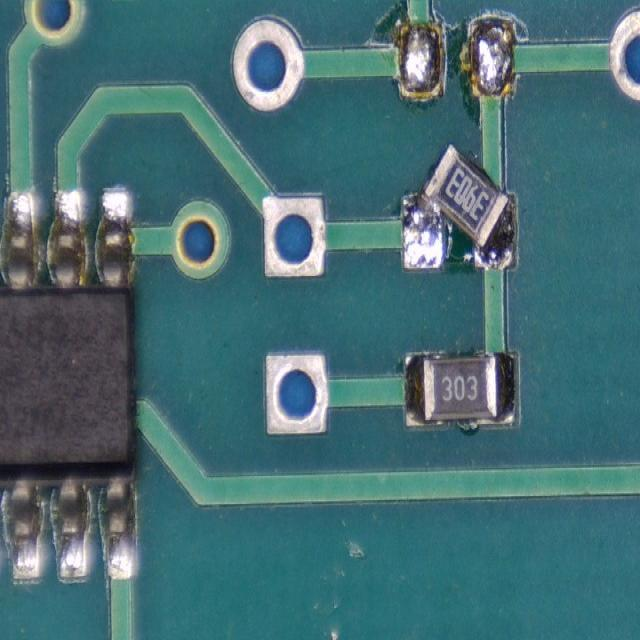Incorrect_installation: (402, 141, 518, 271)
